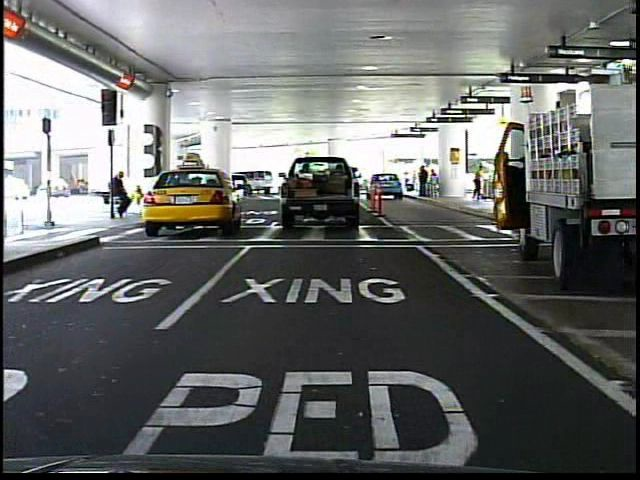person: (111, 164, 134, 221), (470, 159, 489, 205)
